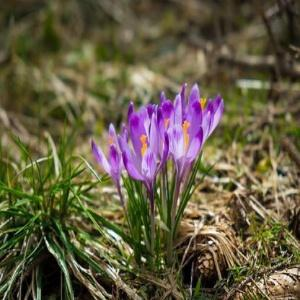Saffron: (120, 129, 166, 197), (167, 120, 201, 187)
